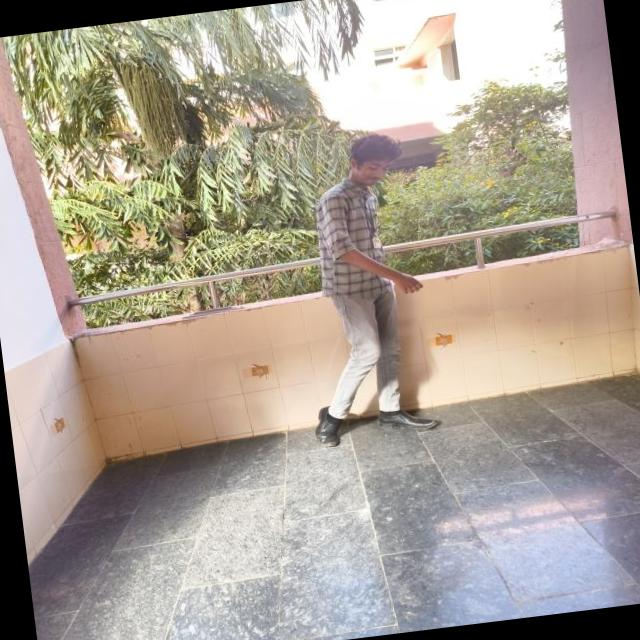id_card: (357, 192, 386, 252)
